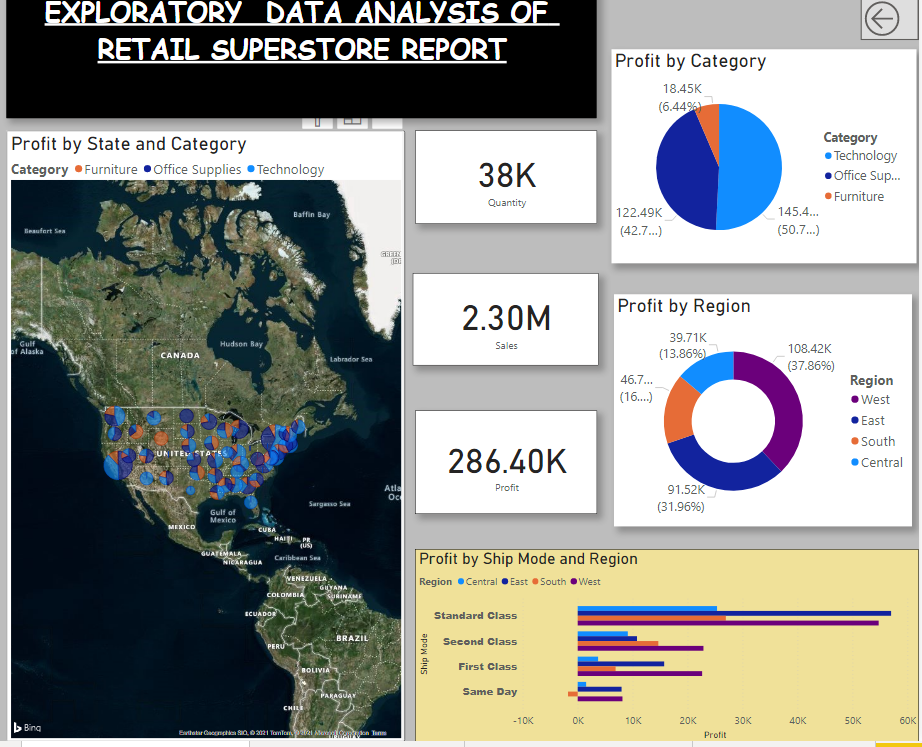

What the dashboard file says about the page in this screenshot:
{"tool":"powerbi","page":{"name":"Sales and profits by states","canvas":[1465,1200],"ordinal":1},"visuals":[{"type":"card","fields":{"Values":["Sum(SampleSuperstore.Sales)"]},"box":[659,454.2,296.1,146.9],"z":0},{"type":"card","fields":{"Values":["Sum(SampleSuperstore.Profit)"]},"box":[663.5,672.4,289.4,164.7],"z":1000},{"type":"card","fields":{"Values":["Sum(SampleSuperstore.Quantity)"]},"box":[663.5,227.1,289.4,149.2],"z":2000},{"type":"pieChart","fields":{"Category":["SampleSuperstore.Category"],"Y":["Sum(SampleSuperstore.Profit)"]},"box":[975.1,98,485.3,340.6],"z":3000},{"type":"donutChart","fields":{"Category":["SampleSuperstore.Region"],"Y":["Sum(SampleSuperstore.Profit)"]},"box":[979.6,487.6,474.2,369.6],"z":4000},{"type":"map","fields":{"Category":["SampleSuperstore.State"],"Size":["Sum(SampleSuperstore.Profit)"],"Series":["SampleSuperstore.Category"]},"box":[11.1,227.1,634.5,972.9],"z":5000},{"type":"clusteredBarChart","fields":{"Y":["Sum(SampleSuperstore.Profit)"],"Category":["SampleSuperstore.Ship Mode"],"Series":["SampleSuperstore.Region"]},"box":[663.5,892.8,801.5,307.2],"z":6000},{"type":"textbox","box":[11.9,0,939.3,207],"z":7000},{"type":"actionButton","box":[1371.1,13.9,93.5,69.7],"z":8000}]}

Visuals, with their boxes in screenshot pixels (x1, y1, x2, y2), scaled from the page's 1465x1200 canvas onto the 922x747 screenshot:
card - Sum(SampleSuperstore.Sales): 415:283:601:374
card - Sum(SampleSuperstore.Profit): 418:419:600:521
card - Sum(SampleSuperstore.Quantity): 418:141:600:234
pieChart - SampleSuperstore.Category x Sum(SampleSuperstore.Profit): 614:61:919:273
donutChart - SampleSuperstore.Region x Sum(SampleSuperstore.Profit): 617:304:915:534
map - SampleSuperstore.State x Sum(SampleSuperstore.Profit): 7:141:406:746
clusteredBarChart - Sum(SampleSuperstore.Profit) x SampleSuperstore.Ship Mode: 418:556:921:746
textbox: 7:0:599:129
actionButton: 863:9:921:52
